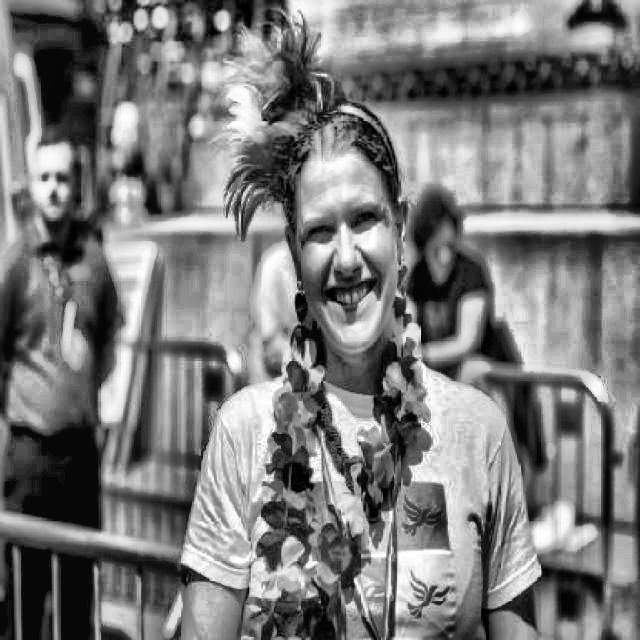happy: (221, 42, 452, 391)
